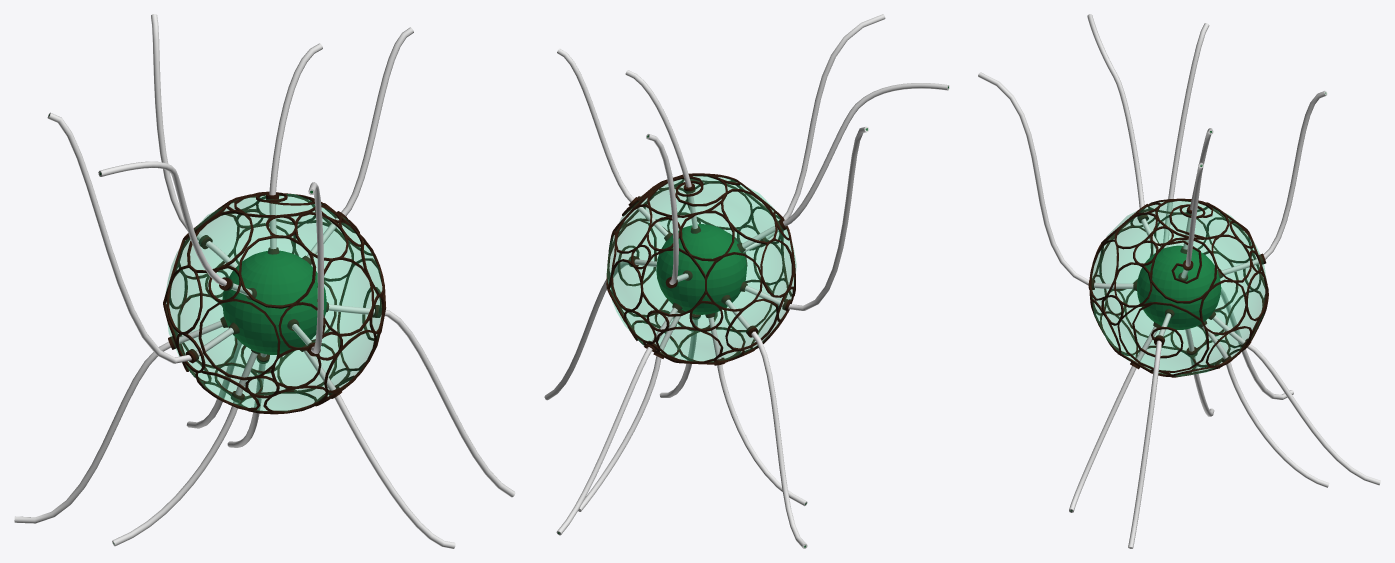
Rendered from the_orb.fbx.
3 renders of one model, left to right at view 1: azimuth 30°, elevation 25°; view 2: azimuth 150°, elevation 25°; view 3: azimuth 270°, elevation 25°, orthographic. The views are drawn at different scales.
Parts seen in each view (by area): view 1: OrbGlass2, PipesRune2, OrbShell2, Orb, Connectors2; view 2: OrbGlass2, PipesRune2, OrbShell2, Orb, Connectors2; view 3: OrbGlass2, PipesRune2, OrbShell2, Orb, Connectors2.
Boxes of the visible parts, box(x1,y1,x2,y2) form: OrbGlass2: box(166, 194, 381, 411); PipesRune2: box(14, 14, 515, 548); OrbShell2: box(163, 191, 386, 414); Orb: box(222, 250, 326, 354); Connectors2: box(168, 193, 381, 402); OrbGlass2: box(607, 176, 796, 361); PipesRune2: box(544, 14, 949, 548); OrbShell2: box(606, 173, 795, 364); Orb: box(656, 224, 746, 314); Connectors2: box(628, 183, 791, 365); OrbGlass2: box(1092, 201, 1265, 376); PipesRune2: box(978, 14, 1380, 548); OrbShell2: box(1089, 198, 1268, 377); Orb: box(1136, 245, 1221, 329); Connectors2: box(1088, 206, 1266, 369).
Bounding box in the file's own units: 4605 × 4550 × 4530.
